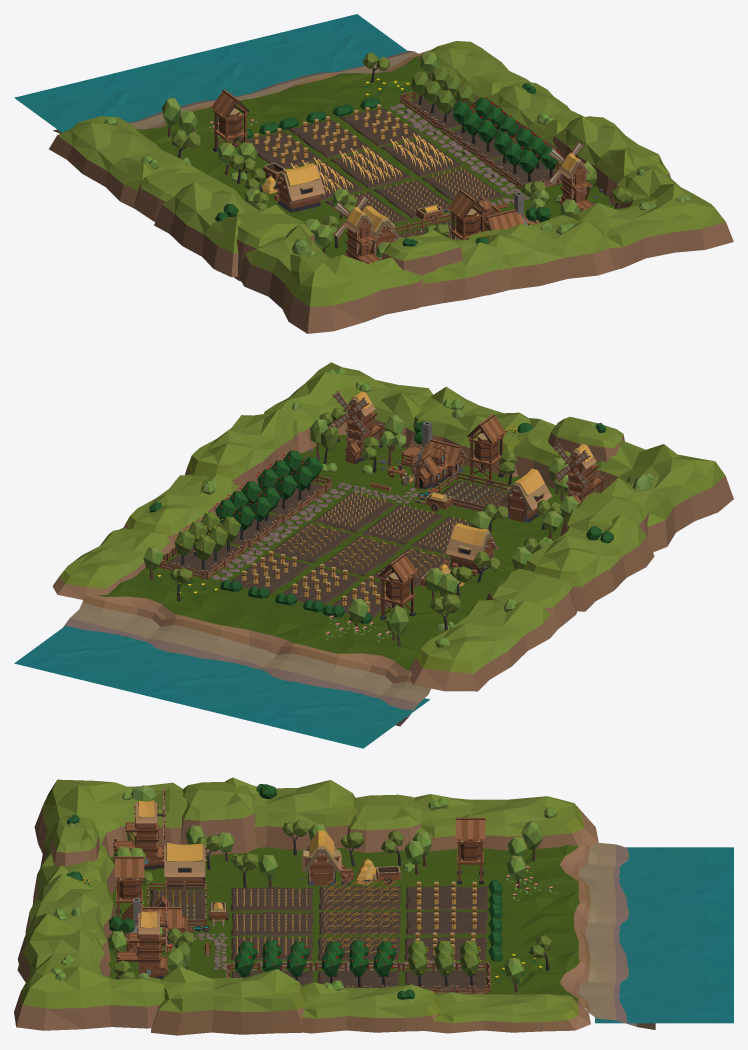
The model's file is Farm.glb.
The picture shows the model from 3 angles, top to bottom: view 1: azimuth 30°, elevation 25°; view 2: azimuth 150°, elevation 25°; view 3: azimuth 270°, elevation 25°; orthographic projection. The views are drawn at different scales.
Parts seen in each view (by area): view 1: TB_Env_Mound_Corner_B (1), TB_Env_Mound_Corner_B, TB_Env_Mound_Big_B (1), TB_Env_Mound_Big_B (6), TB_Env_Tile_Water_A, TB_Env_Tile_Water_A (1), TB_Env_Mound_Big_B (3), TB_Env_Tile_Water_A (3), TB_Env_Mound_Big_B (2), TB_Env_Tile_Field_A (2) (×3), TB_Env_Tile_Field_A (1) (×3), TB_Env_Mound_Med_B (+24 smaller); view 2: TB_Env_Mound_Big_B (6), TB_Env_Mound_Corner_B (1), TB_Env_Lakeside_B, TB_Env_Lakeside_A, TB_Env_Lakeside_A (1), TB_Env_Mound_Big_B (3), TB_Env_Tile_Water_A (3), TB_Env_Tile_Water_A (1), TB_Env_Tile_Water_A, TB_Env_Mound_Corner_B, TB_Env_Mound_Big_B (2), TB_Env_Mound_Big_B (5) (+27 smaller); view 3: TB_Env_Mound_Corner_B, TB_Env_Mound_Big_B (2), TB_Env_Tile_Water_A, TB_Env_Mound_Big_B (6), TB_Env_Tile_Water_A (3), TB_Env_Tile_Water_A (1), TB_Env_Mound_Corner_B (1), TB_Env_Lakeside_B, TB_Env_Mound_Big_B (4), TB_Env_Mound_Big_B (5), TB_Env_Lakeside_A, TB_Env_Mound_Big_B (3) (+30 smaller).
Part boxes in pixels (x1,y1,x2,y2): TB_Env_Mound_Corner_B (1): (239, 224, 423, 333); TB_Env_Mound_Corner_B: (573, 165, 733, 269); TB_Env_Mound_Big_B (1): (467, 215, 618, 295); TB_Env_Mound_Big_B (6): (49, 116, 189, 207); TB_Env_Tile_Water_A: (243, 14, 407, 78); TB_Env_Tile_Water_A (1): (128, 42, 292, 106); TB_Env_Mound_Big_B (3): (154, 182, 261, 277); TB_Env_Tile_Water_A (3): (14, 70, 167, 132); TB_Env_Mound_Big_B (2): (552, 116, 670, 197); TB_Env_Tile_Field_A (2) (×3): (240, 108, 421, 168); TB_Env_Tile_Field_A (1) (×3): (315, 138, 462, 200); TB_Env_Mound_Med_B: (421, 239, 506, 306); TB_Env_Mound_Big_B (6): (409, 600, 557, 691); TB_Env_Mound_Corner_B (1): (592, 440, 733, 552); TB_Env_Lakeside_B: (181, 599, 350, 681); TB_Env_Lakeside_A: (63, 575, 233, 653); TB_Env_Lakeside_A (1): (297, 628, 430, 726); TB_Env_Mound_Big_B (3): (523, 514, 654, 611); TB_Env_Tile_Water_A (3): (247, 682, 429, 748); TB_Env_Tile_Water_A (1): (131, 654, 297, 720); TB_Env_Tile_Water_A: (14, 625, 181, 691); TB_Env_Mound_Corner_B: (264, 362, 433, 452); TB_Env_Mound_Big_B (2): (185, 408, 299, 488); TB_Env_Mound_Big_B (5): (52, 528, 172, 599); TB_Env_Mound_Corner_B: (14, 929, 164, 1030); TB_Env_Mound_Big_B (2): (151, 966, 307, 1035); TB_Env_Tile_Water_A: (595, 964, 733, 1023); TB_Env_Mound_Big_B (6): (413, 794, 598, 851); TB_Env_Tile_Water_A (3): (619, 847, 733, 905); TB_Env_Tile_Water_A (1): (619, 906, 733, 964); TB_Env_Mound_Corner_B (1): (34, 779, 187, 867); TB_Env_Lakeside_B: (516, 891, 628, 964); TB_Env_Mound_Big_B (4): (301, 982, 440, 1033); TB_Env_Mound_Big_B (5): (425, 992, 590, 1033); TB_Env_Lakeside_A: (516, 949, 655, 1029); TB_Env_Mound_Big_B (3): (225, 777, 357, 849).
Size of the model in its own units: 75.03 by 14.76 by 104.
2 materials, 2 textured.
